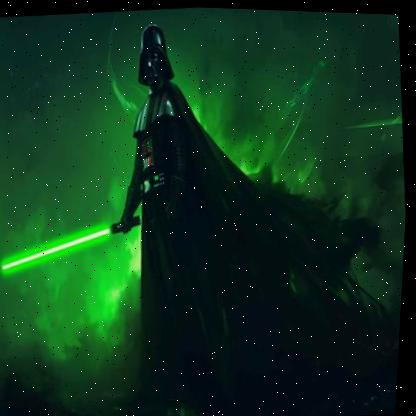lightsaber: (0, 211, 145, 276)
person: (95, 4, 416, 416)
